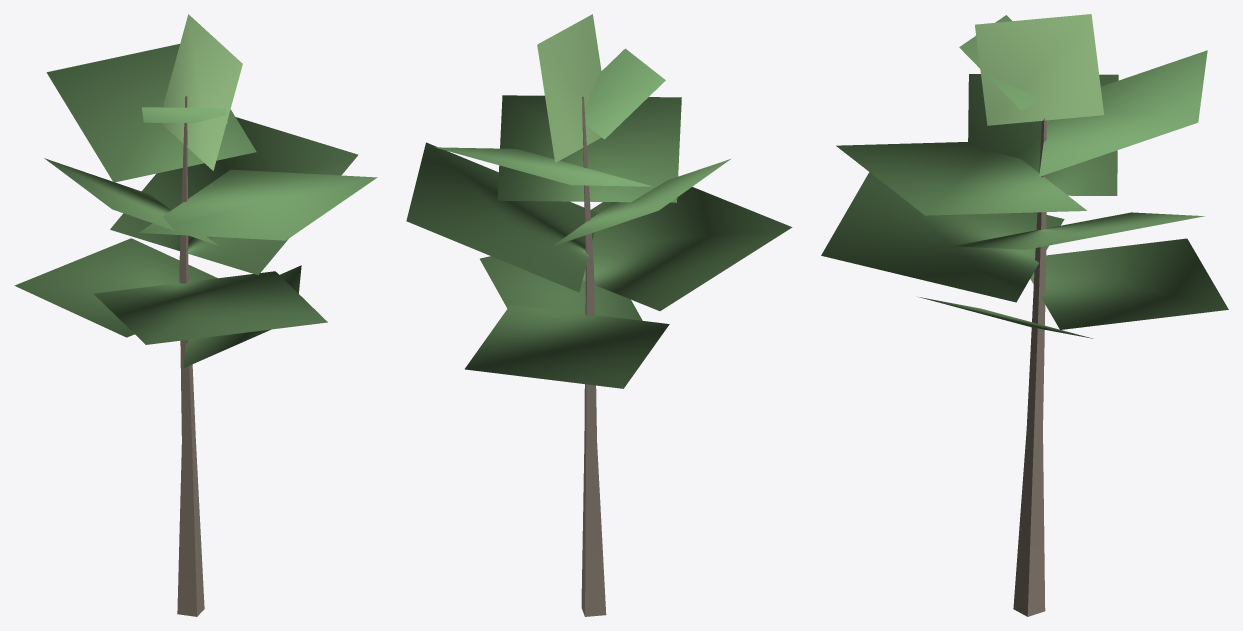
The model's file is tree_pine_b_lod2.glb.
3 renders of one model, left to right at view 1: azimuth 30°, elevation 25°; view 2: azimuth 150°, elevation 25°; view 3: azimuth 270°, elevation 25°, orthographic. The views are drawn at different scales.
Visible parts, largest first — view 1: tree_pine_b_lod2; view 2: tree_pine_b_lod2; view 3: tree_pine_b_lod2.
Part boxes in pixels (left/top/right/bottom): tree_pine_b_lod2: left=14, top=14, right=377, bottom=616; tree_pine_b_lod2: left=406, top=14, right=792, bottom=616; tree_pine_b_lod2: left=821, top=14, right=1228, bottom=616.
Bounding box in the file's own units: 8.67 × 16.52 × 10.01.
